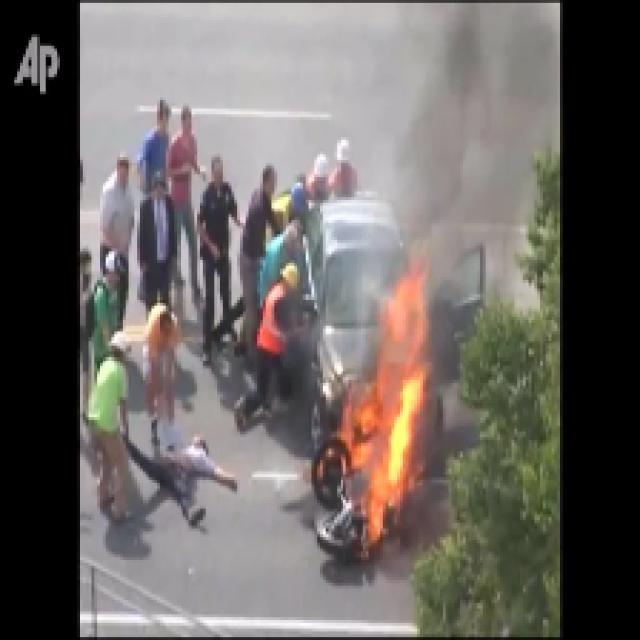Fire: (312, 274, 452, 552)
Smoke: (366, 3, 562, 318)
